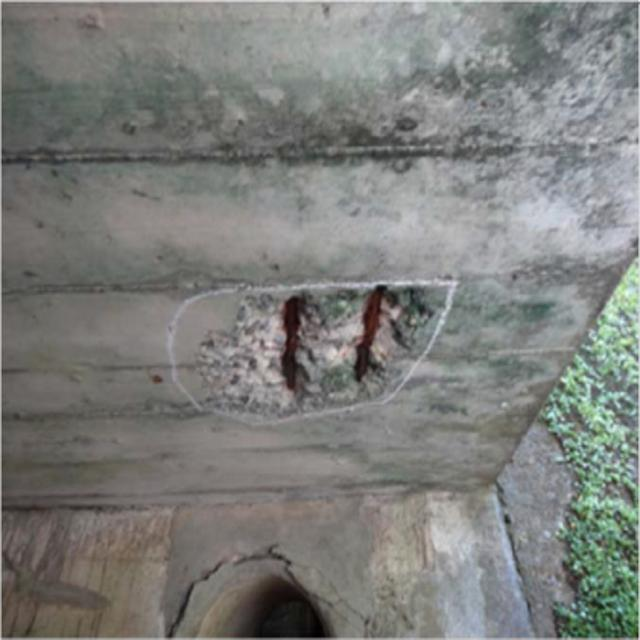spalling: (197, 252, 442, 412)
